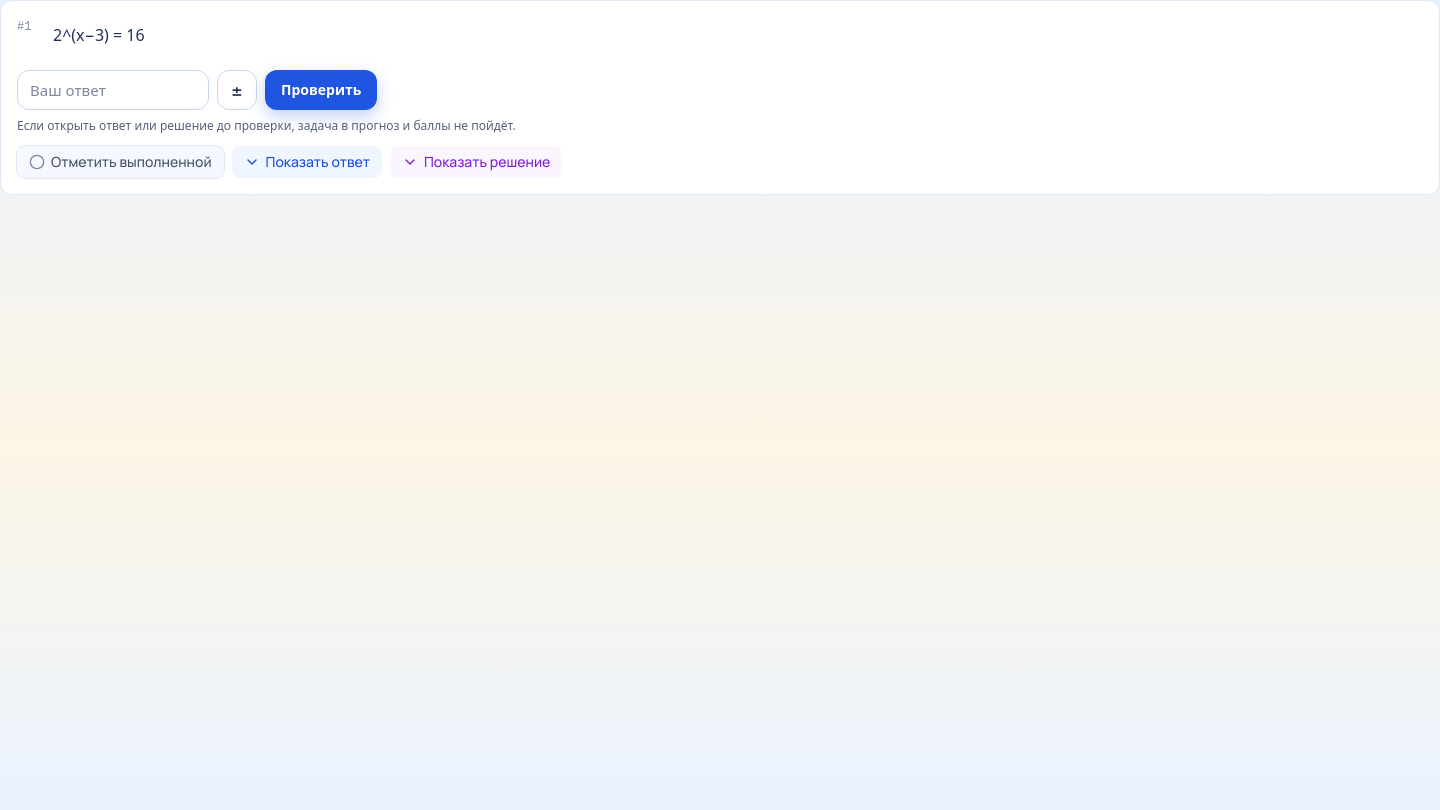
Test case: TaskDisplayCard — проверка ответа (§256) › верно и засчитано: «Верно! +5 баллов школы · +1 к прогнозу» и тост
The width and height of the screenshot is (1440, 810).
Step 1. Type " 7 " into the field with test id "task-answer-input" → (113, 90), box x1=17 y1=70 x2=209 y2=110
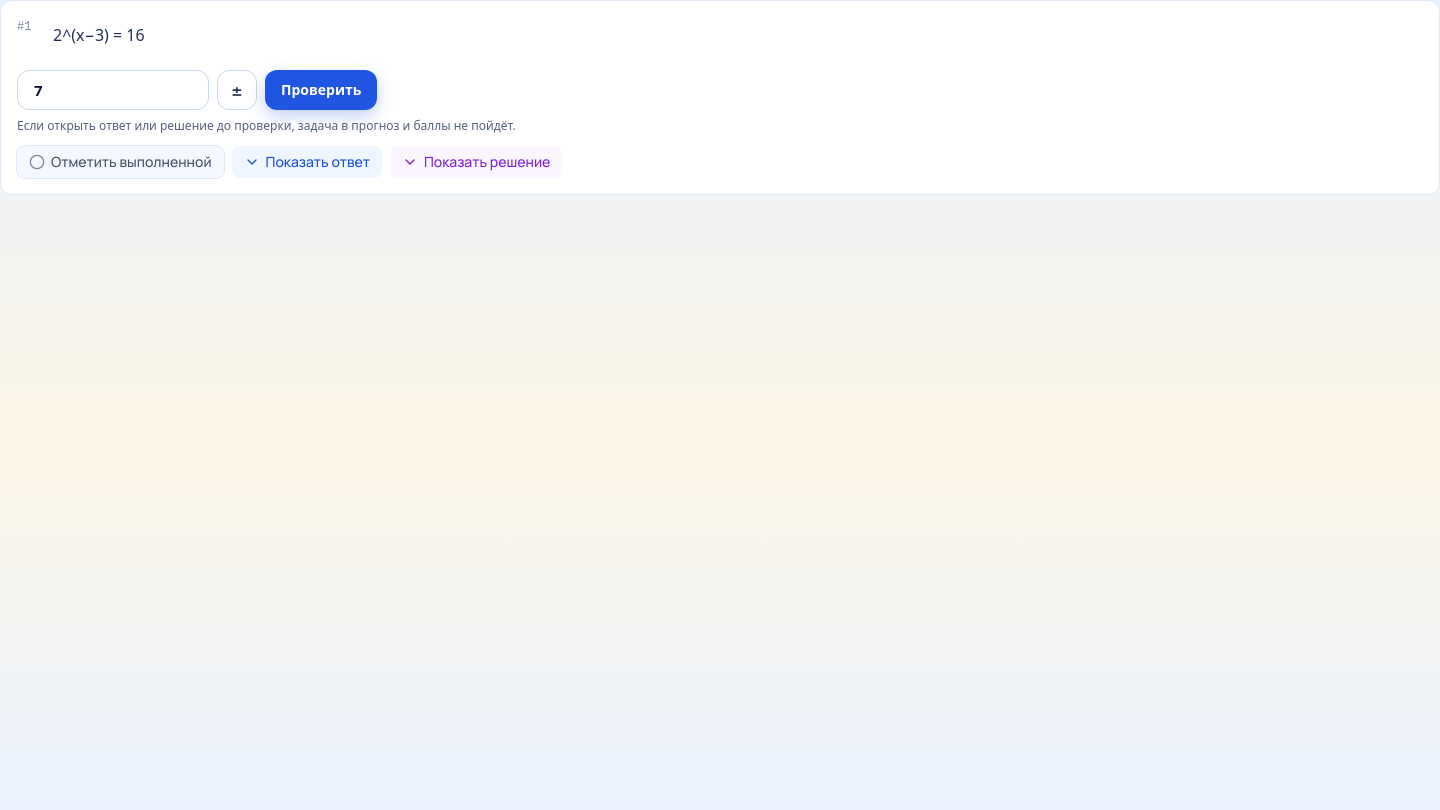
Step 2. Click the button with test id "task-answer-submit" → click(321, 90), box x1=265 y1=70 x2=377 y2=110
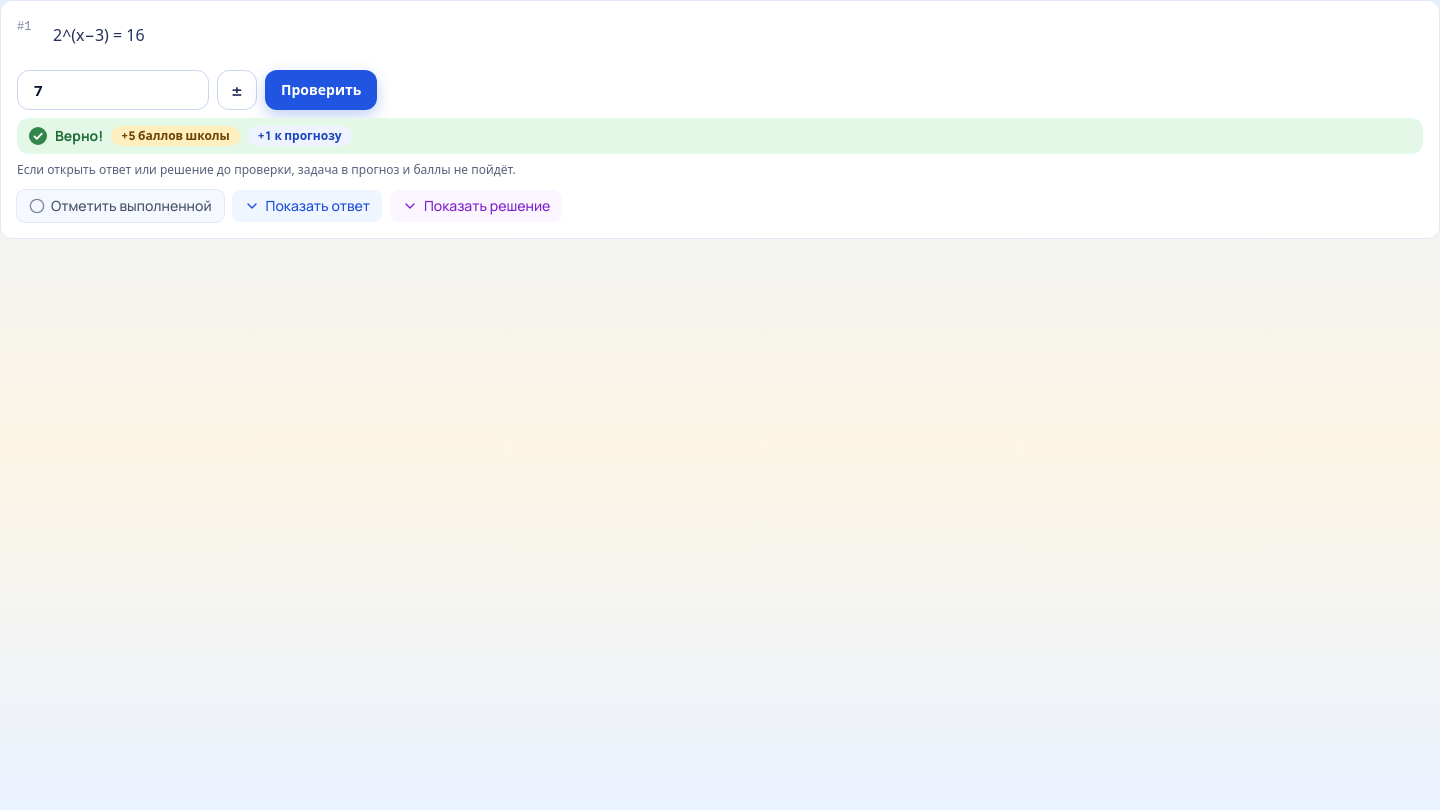
expect the message with test id "task-answer-result" shows "Верно!": met, box x1=55 y1=126 x2=103 y2=145
expect the message with test id "task-answer-result" shows "+5 баллов школы": met, box x1=121 y1=127 x2=230 y2=144
expect the text with test id "task-answer-forecast" reads "+1 к прогнозу": met, box x1=258 y1=127 x2=342 y2=144
